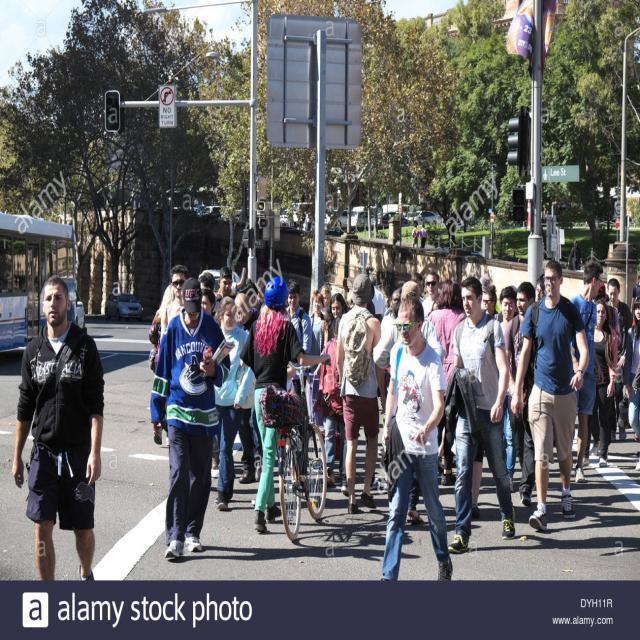body: (11, 274, 106, 580), (147, 273, 232, 562), (238, 274, 330, 533), (508, 258, 590, 534), (377, 296, 455, 580), (444, 275, 517, 554), (334, 269, 387, 516), (213, 294, 256, 512), (566, 261, 604, 484), (428, 278, 467, 486), (504, 281, 537, 508), (372, 280, 446, 369), (317, 314, 348, 495), (587, 299, 620, 469), (234, 292, 263, 485), (286, 278, 313, 466), (604, 277, 634, 443), (376, 282, 432, 370), (496, 286, 520, 480), (157, 262, 191, 364), (621, 295, 640, 473), (307, 288, 330, 428), (157, 264, 189, 363), (235, 266, 272, 314), (592, 280, 620, 341), (323, 292, 349, 348), (419, 269, 442, 322), (327, 292, 350, 341), (369, 274, 387, 325), (214, 265, 238, 301), (481, 282, 499, 316), (198, 270, 217, 300), (316, 284, 332, 318), (410, 270, 426, 304), (567, 239, 584, 270), (478, 274, 492, 311), (431, 278, 447, 310), (200, 287, 217, 317), (295, 208, 314, 233), (630, 272, 640, 315), (342, 292, 359, 312), (535, 273, 546, 303), (411, 222, 420, 248), (419, 223, 428, 248)
